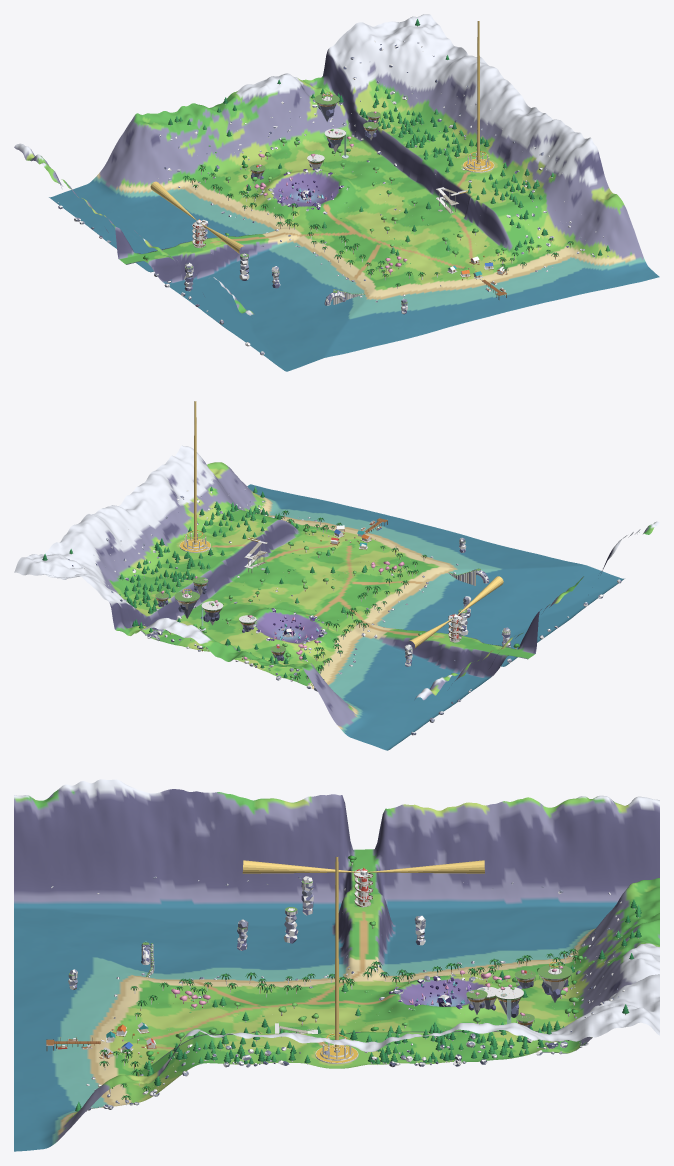
The model's file is world_coast.glb.
3 renders of one model, top to bottom at view 1: azimuth 30°, elevation 25°; view 2: azimuth 150°, elevation 25°; view 3: azimuth 270°, elevation 25°, orthographic. The views are drawn at different scales.
Visible parts, largest first — view 1: Terrain, Trees_Leaves, COL_Props, Rocks, Isles, Beacon; view 2: Terrain, Trees_Leaves, COL_Props, Rocks, Isles, Beacon; view 3: Terrain, Trees_Leaves, COL_Props, Rocks, Isles, Beacon, Village, Temple_Beam, Temple.
Boxes of the visible parts, left/top/right/bottom form: Terrain: left=14, top=14, right=659, bottom=371; Trees_Leaves: left=143, top=19, right=609, bottom=286; COL_Props: left=58, top=26, right=607, bottom=355; Rocks: left=58, top=41, right=608, bottom=354; Isles: left=250, top=92, right=380, bottom=179; Beacon: left=150, top=181, right=244, bottom=253; Terrain: left=14, top=445, right=659, bottom=750; Trees_Leaves: left=42, top=486, right=520, bottom=686; COL_Props: left=44, top=480, right=620, bottom=735; Rocks: left=68, top=489, right=621, bottom=735; Isles: left=155, top=577, right=285, bottom=660; Beacon: left=409, top=576, right=503, bottom=648; Terrain: left=14, top=779, right=659, bottom=1151; Trees_Leaves: left=75, top=855, right=641, bottom=1111; COL_Props: left=46, top=862, right=638, bottom=1111; Rocks: left=51, top=876, right=621, bottom=1115; Isles: left=466, top=962, right=572, bottom=1028; Beacon: left=242, top=860, right=484, bottom=873; Village: left=46, top=1022, right=158, bottom=1058; Temple_Beam: left=335, top=857, right=338, bottom=1050; Temple: left=315, top=1034, right=358, bottom=1063.
Size of what is drawn, in the model's own units: 480 by 212 by 480.
